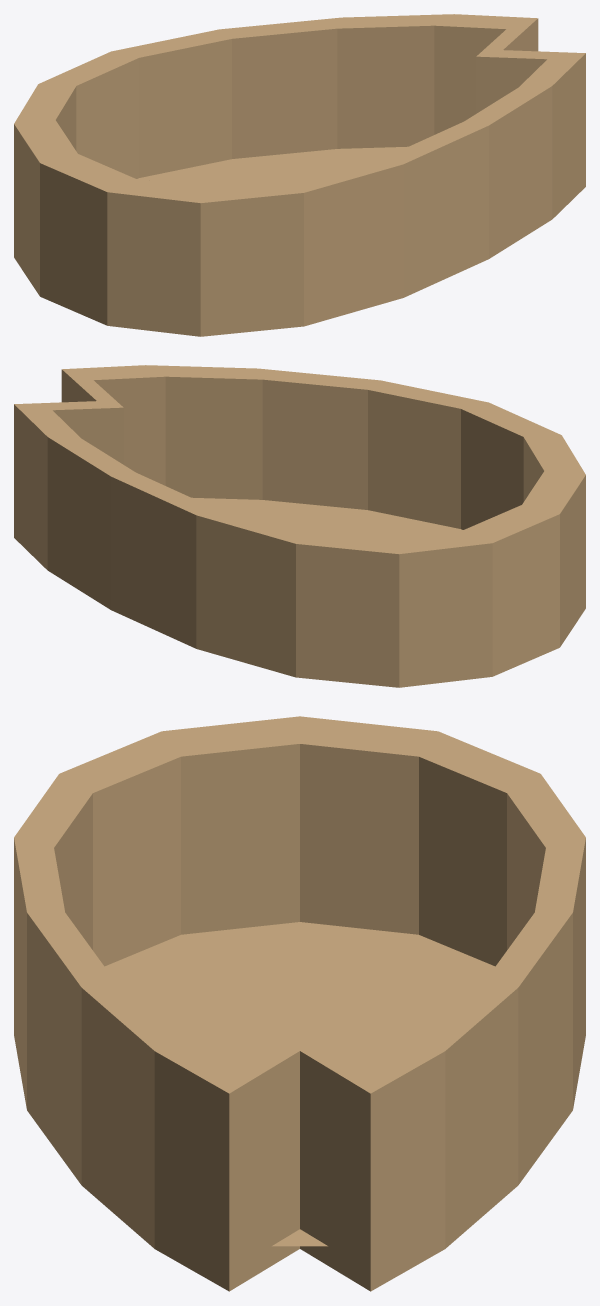
The model's file is prop-gurdy-body-blank.fbx.
The picture shows the model from 3 angles, top to bottom: view 1: azimuth 30°, elevation 25°; view 2: azimuth 150°, elevation 25°; view 3: azimuth 270°, elevation 25°; orthographic projection. The views are drawn at different scales.
Visible parts, largest first — view 1: prop-gurdy-body-blank; view 2: prop-gurdy-body-blank; view 3: prop-gurdy-body-blank.
Part boxes in pixels (bbox=[...]): prop-gurdy-body-blank: bbox=[14, 14, 585, 336]; prop-gurdy-body-blank: bbox=[14, 365, 585, 687]; prop-gurdy-body-blank: bbox=[14, 716, 585, 1291].
Size of the model in its own units: 32.71 by 8 by 20.95.
